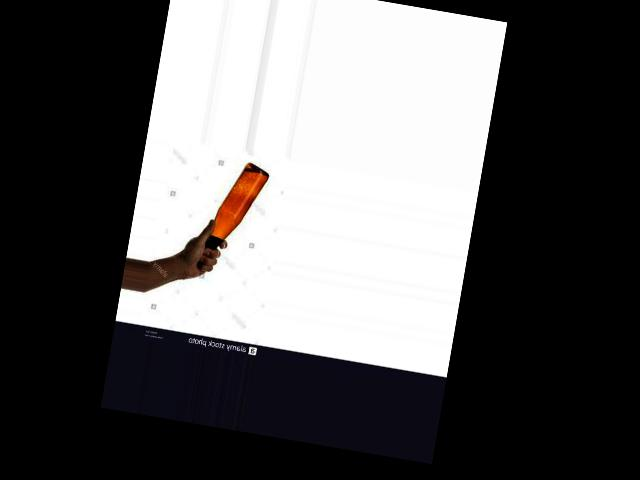beer: (197, 156, 270, 276)
